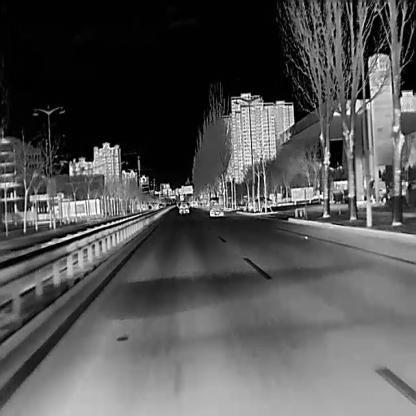car: (208, 193, 223, 216), (246, 196, 273, 208), (178, 200, 189, 213)
